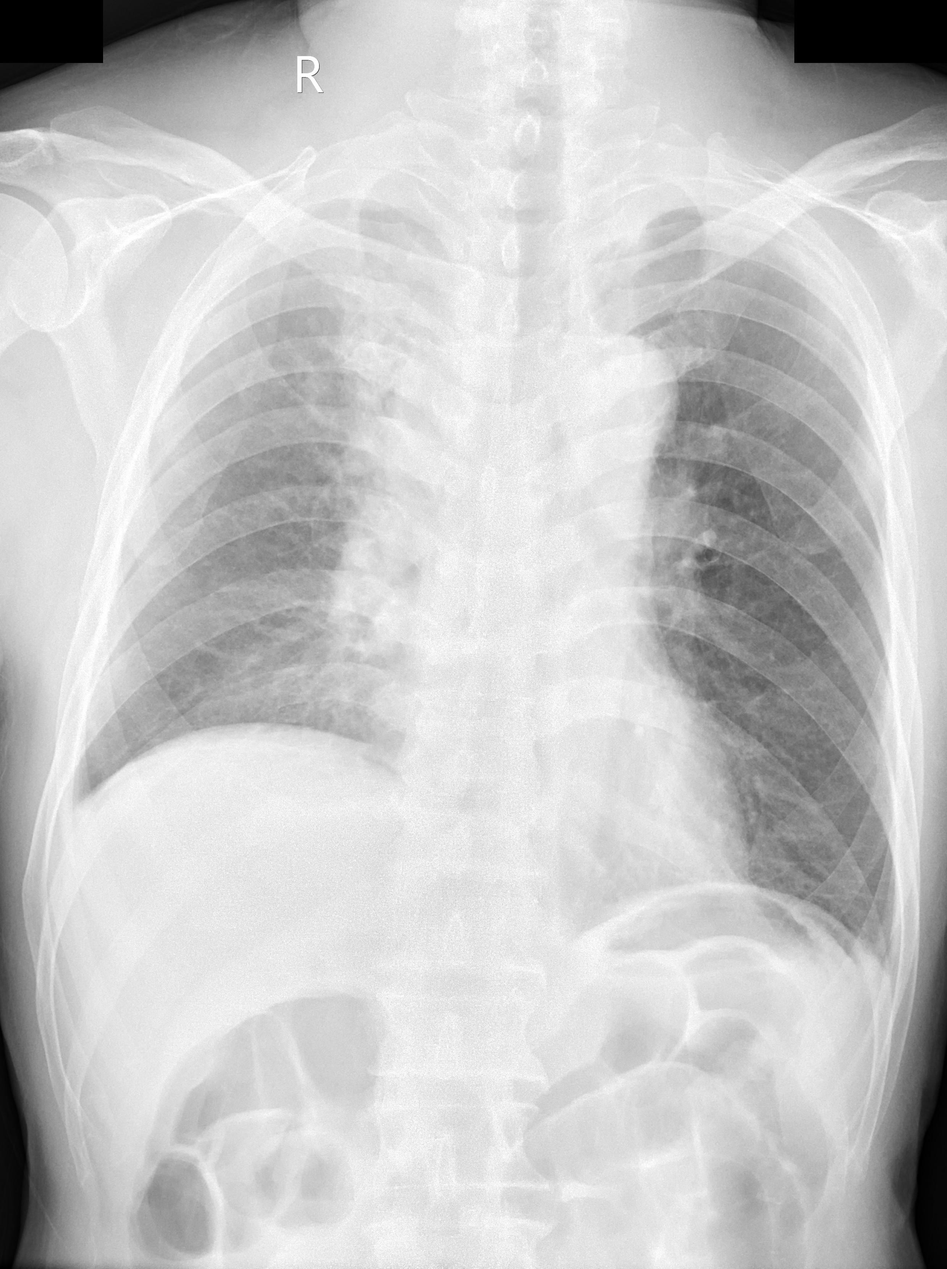Aortic enlargement: (551, 332, 679, 472)
Pulmonary fibrosis: (257, 485, 334, 546)
